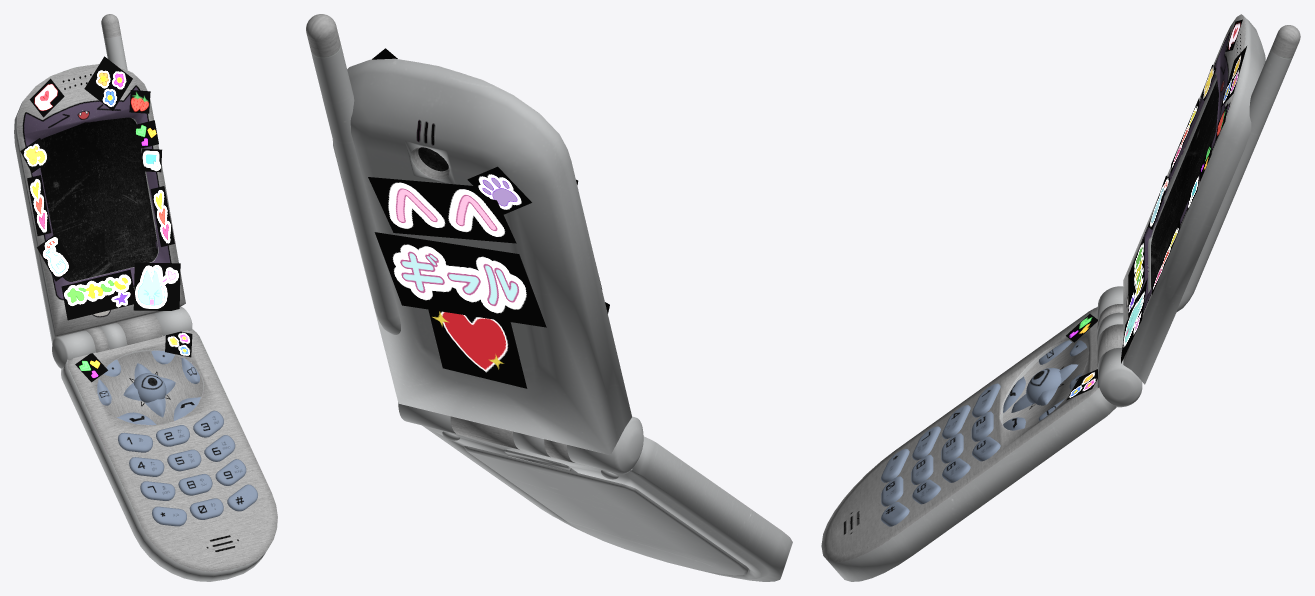
Rendered from cute_flip_phone_silver.glb.
3 views of the same model, side by side, from view 1: azimuth 30°, elevation 25°; view 2: azimuth 150°, elevation 25°; view 3: azimuth 270°, elevation 25° (orthographic). The views are drawn at different scales.
Visible parts, largest first — view 1: bottomPhone_low, antenna_low, Plane.012, Plane.011, Plane.005, Plane.013, Plane.009, Plane.010, Plane.004, Plane.014, Plane.016, Plane.007 (+3 smaller); view 2: antenna_low, bottomPhone_low, Plane, Plane.001, Plane.002, Plane.003; view 3: bottomPhone_low, antenna_low, Plane.012, Plane.011.
Part boxes in pixels (x1,y1,x2,y2): bottomPhone_low: (52,307,277,581); antenna_low: (14,14,185,344); Plane.012: (61,269,136,320); Plane.011: (133,262,180,310); Plane.005: (84,56,132,110); Plane.013: (37,234,74,281); Plane.009: (27,175,51,235); Plane.010: (150,186,174,246); Plane.004: (29,78,64,117); Plane.014: (20,138,51,172); Plane.016: (165,331,192,357); Plane.007: (133,120,158,149); antenna_low: (306,14,631,455); bottomPhone_low: (398,402,792,581); Plane: (374,232,546,327); Plane.001: (368,177,516,243); Plane.002: (428,309,527,388); Plane.003: (467,166,531,214); bottomPhone_low: (821,286,1142,581); antenna_low: (1123,14,1300,384); Plane.012: (1128,237,1144,319); Plane.011: (1121,278,1147,363).
Bounding box in the file's own units: 1.75 × 5.24 × 3.97.
Materials: 2 (2 with a texture image).
